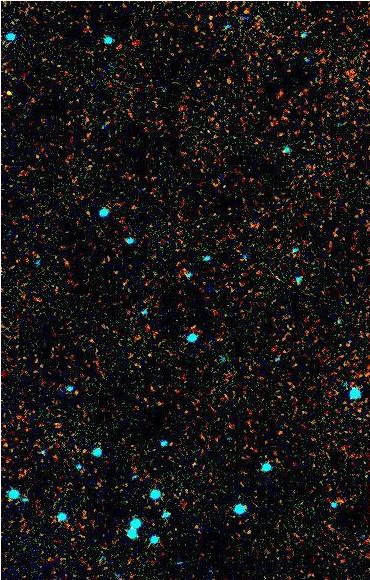star: (0, 77, 26, 107)
